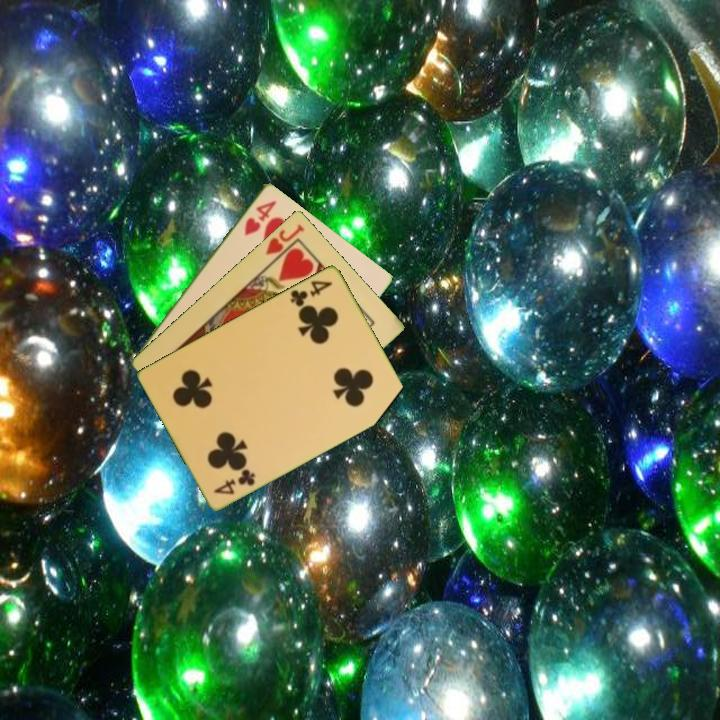4c: (287, 276, 335, 309), (210, 465, 258, 497)
4h: (241, 196, 279, 238)
Jh: (262, 220, 307, 258)
